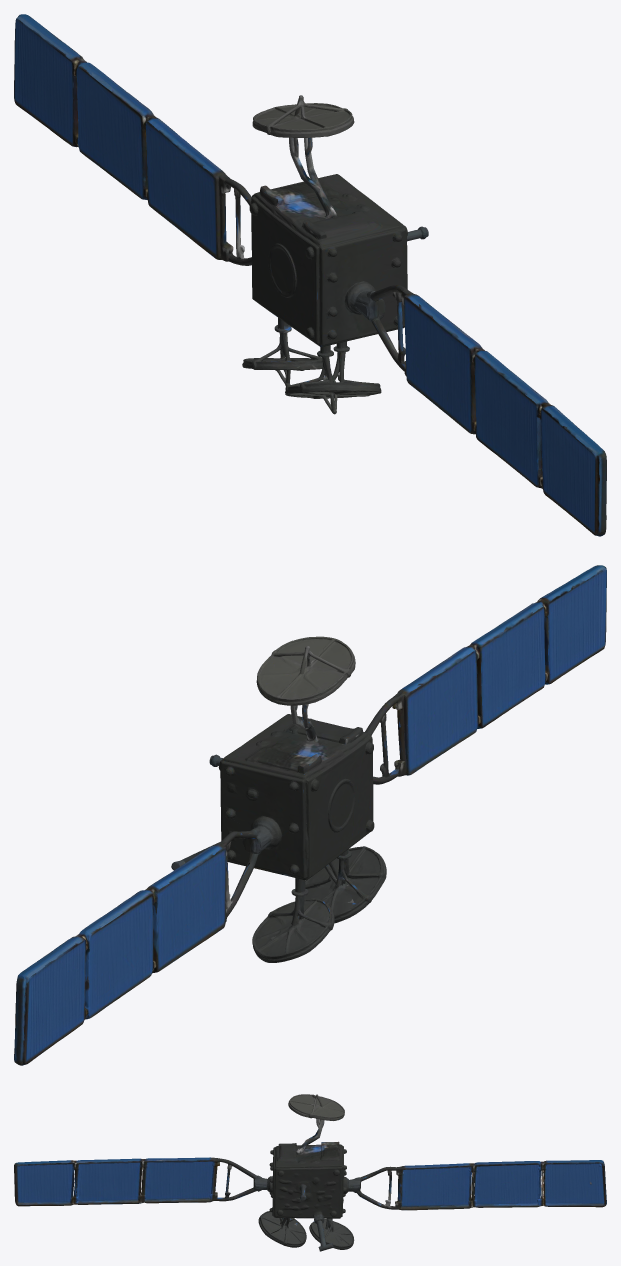
File: turksat-4A.glb
3 views of the same model, one above another, from view 1: azimuth 30°, elevation 25°; view 2: azimuth 150°, elevation 25°; view 3: azimuth 270°, elevation 25° (orthographic). The views are drawn at different scales.
Parts seen in each view (by area): view 1: tripo_node_4108cca4-eaa2-48d8-b554-957640b116a4; view 2: tripo_node_4108cca4-eaa2-48d8-b554-957640b116a4; view 3: tripo_node_4108cca4-eaa2-48d8-b554-957640b116a4.
Part boxes in pixels (x1,y1,x2,y2): tripo_node_4108cca4-eaa2-48d8-b554-957640b116a4: (14, 14, 606, 536); tripo_node_4108cca4-eaa2-48d8-b554-957640b116a4: (14, 565, 606, 1065); tripo_node_4108cca4-eaa2-48d8-b554-957640b116a4: (14, 1094, 606, 1251).
Size of the model in its own units: 0.1604 by 0.2788 by 1.
Materials: 1 (1 with a texture image).
